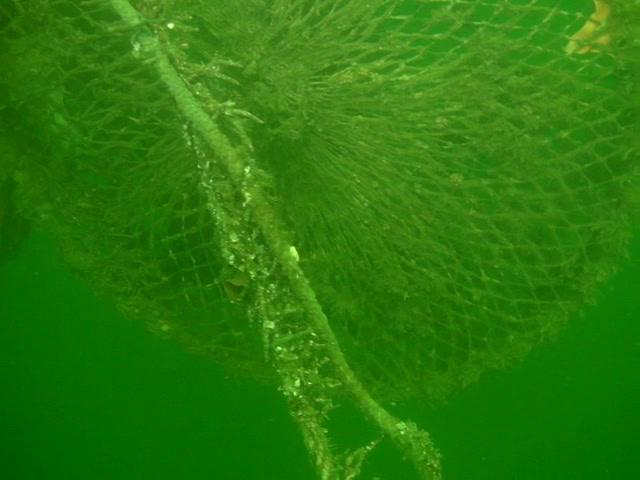bundle of ropes: (108, 0, 403, 438), (298, 418, 343, 480)
circular fish trap: (0, 0, 640, 403)
